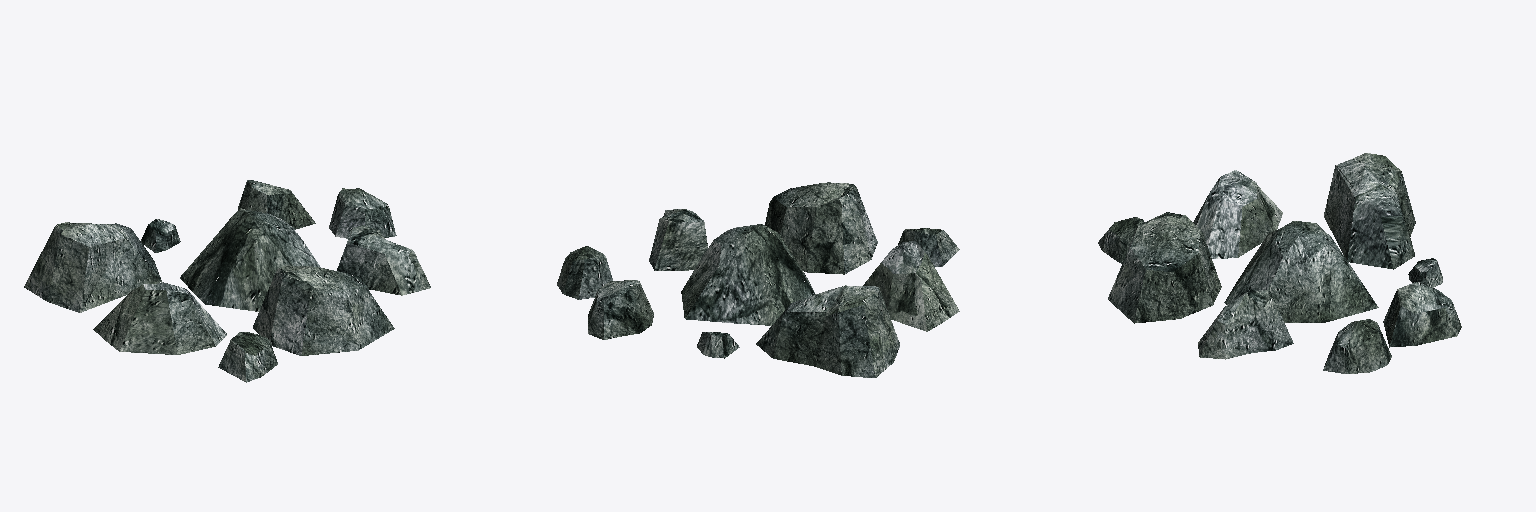
The picture shows the model from 3 angles: view 1: azimuth 30°, elevation 25°; view 2: azimuth 150°, elevation 25°; view 3: azimuth 270°, elevation 25°; orthographic projection.
Parts seen in each view (by area): view 1: pebbles:polySurface27 pebbles:polySurface28 pebbles:polySurface2, pebbles:polySurface26 pebbles:polySurface27 pebbles:polySurface2; view 2: pebbles:polySurface27 pebbles:polySurface28 pebbles:polySurface2, pebbles:polySurface26 pebbles:polySurface27 pebbles:polySurface2; view 3: pebbles:polySurface27 pebbles:polySurface28 pebbles:polySurface2, pebbles:polySurface26 pebbles:polySurface27 pebbles:polySurface2.
Boxes of the visible parts, x1,y1,x2,y2 form: pebbles:polySurface27 pebbles:polySurface28 pebbles:polySurface2: [24, 180, 430, 382]; pebbles:polySurface26 pebbles:polySurface27 pebbles:polySurface2: [180, 208, 320, 311]; pebbles:polySurface27 pebbles:polySurface28 pebbles:polySurface2: [557, 182, 959, 377]; pebbles:polySurface26 pebbles:polySurface27 pebbles:polySurface2: [681, 224, 815, 325]; pebbles:polySurface27 pebbles:polySurface28 pebbles:polySurface2: [1098, 153, 1461, 373]; pebbles:polySurface26 pebbles:polySurface27 pebbles:polySurface2: [1224, 221, 1378, 322].
Bounding box in the file's own units: 2.48 × 0.495 × 2.3.
1 materials, 1 textured.